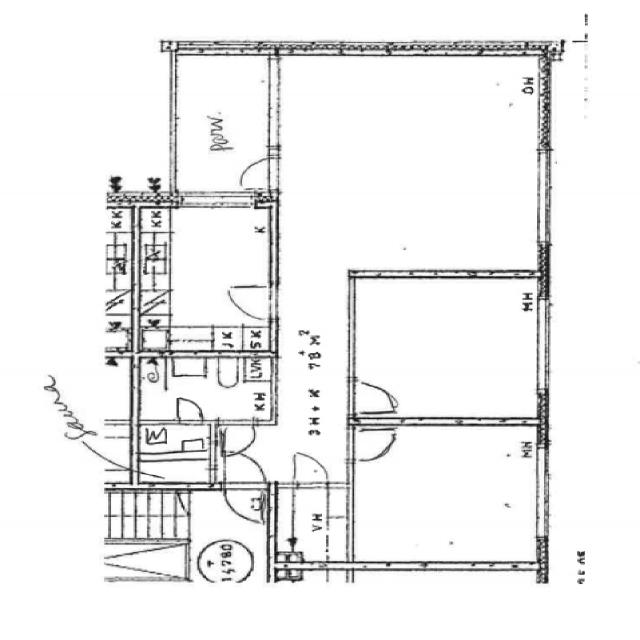door: (270, 455, 352, 566), (350, 376, 406, 422), (346, 423, 398, 467), (222, 282, 276, 324), (221, 484, 271, 526), (220, 450, 268, 489), (288, 450, 330, 491), (214, 421, 258, 458), (233, 154, 274, 193), (169, 394, 207, 427)
window: (530, 293, 560, 394), (530, 152, 559, 250), (529, 443, 555, 544), (174, 189, 258, 211)
zone: (273, 44, 545, 273), (349, 277, 547, 425), (349, 421, 543, 567), (138, 205, 274, 348), (170, 50, 275, 195), (137, 354, 277, 426), (270, 484, 352, 568), (133, 421, 219, 489)
